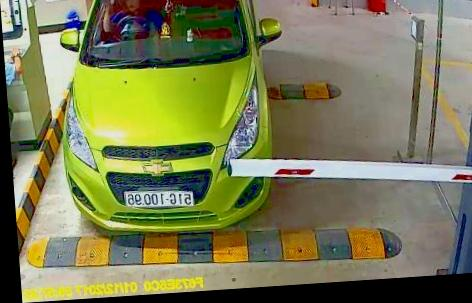License_Plate: (125, 185, 196, 210)
